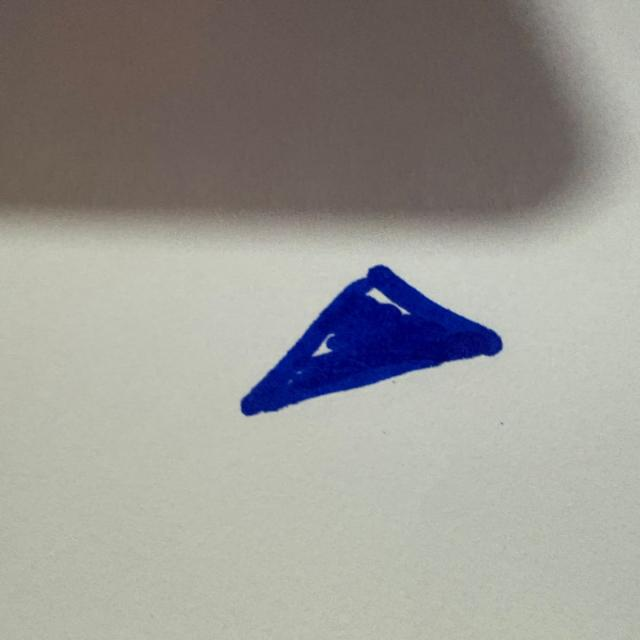Triangle: (241, 265, 501, 415)
